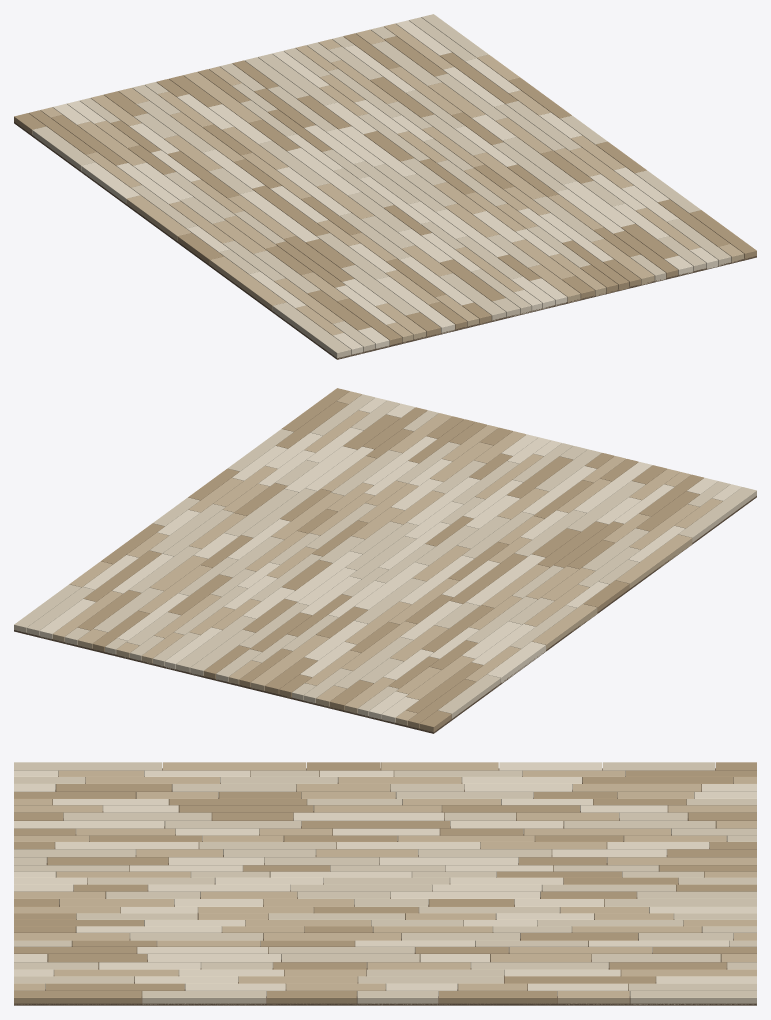
File: Floor_2m.fbx
3 renders of one model, top to bottom at view 1: azimuth 30°, elevation 25°; view 2: azimuth 150°, elevation 25°; view 3: azimuth 270°, elevation 25°, orthographic. The views are drawn at different scales.
Parts seen in each view (by area): view 1: Floor seam.001, Floorboard.243, Floorboard.244, Floorboard.246, Floorboard.304, Floorboard.299, Floorboard.248, Floorboard.297, Floorboard.390, Floorboard.346, Floorboard.308, Floorboard.445 (+120 smaller); view 2: Floor seam.001, Floorboard.244, Floorboard.243, Floorboard.390, Floorboard.246, Floorboard.346, Floorboard.299, Floorboard.248, Floorboard.297, Floorboard.247, Floorboard.308, Floorboard.304 (+121 smaller); view 3: Floor seam.001, Floorboard.485, Floorboard.479, Floorboard.480, Floorboard.483, Floorboard.299, Floorboard.346, Floorboard.243, Floorboard.297, Floorboard.244, Floorboard.344, Floorboard.445 (+210 smaller).
Boxes of the visible parts, x1,y1,x2,y2 form: Floor seam.001: (14, 122, 756, 359); Floorboard.243: (272, 302, 351, 359); Floorboard.244: (210, 256, 286, 310); Floorboard.246: (126, 195, 191, 240); Floorboard.304: (376, 276, 454, 333); Floorboard.299: (240, 191, 319, 242); Floorboard.248: (32, 126, 94, 170); Floorboard.297: (341, 265, 419, 315); Floorboard.390: (258, 53, 337, 105); Floorboard.346: (183, 72, 261, 122); Floorboard.308: (136, 101, 215, 152); Floorboard.445: (502, 137, 576, 184); Floor seam.001: (14, 496, 756, 733); Floorboard.244: (616, 534, 692, 588); Floorboard.243: (678, 487, 756, 542); Floorboard.390: (176, 615, 255, 672); Floorboard.246: (532, 604, 597, 649); Floorboard.346: (250, 635, 329, 690); Floorboard.299: (466, 554, 545, 605); Floorboard.248: (438, 674, 500, 718); Floorboard.297: (567, 481, 645, 531); Floorboard.247: (487, 641, 545, 683); Floorboard.308: (334, 637, 412, 688); Floorboard.304: (574, 462, 652, 513); Floor seam.001: (14, 768, 756, 1005); Floorboard.485: (630, 991, 756, 1004); Floorboard.479: (14, 991, 141, 1004); Floorboard.480: (142, 991, 266, 1004); Floorboard.483: (439, 991, 557, 1004); Floorboard.299: (293, 812, 444, 826); Floorboard.346: (607, 857, 756, 870); Floorboard.243: (14, 762, 162, 776); Floorboard.297: (63, 812, 211, 826); Floorboard.244: (163, 762, 306, 776); Floorboard.344: (379, 857, 518, 870); Floorboard.445: (281, 954, 419, 967).
Bounding box in the file's own units: 5.99 × 0.095 × 7.99.
